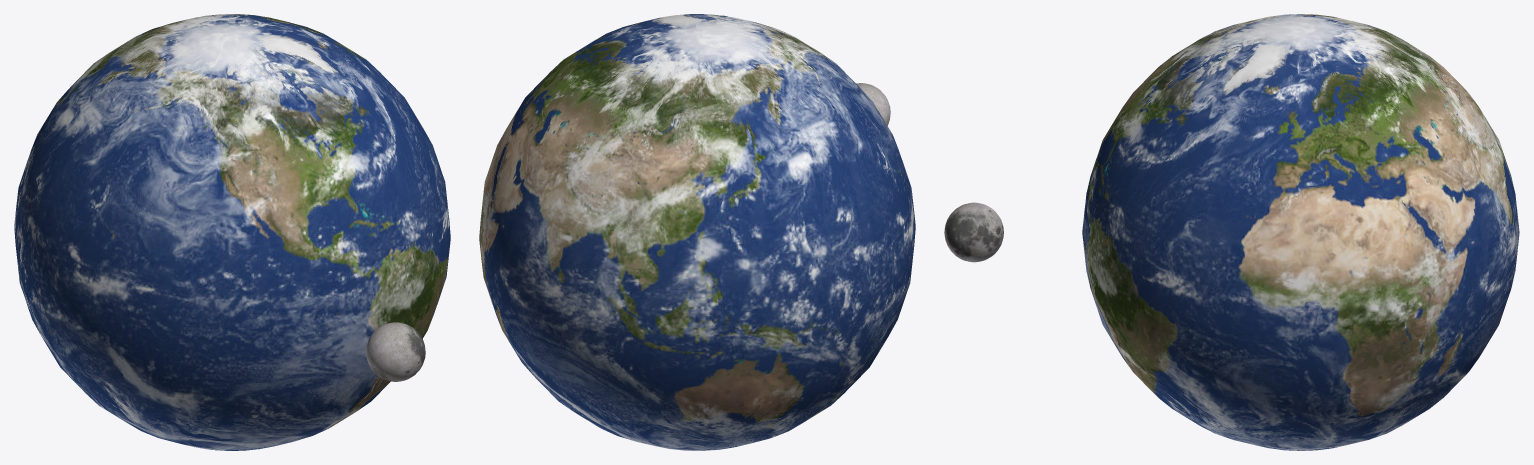
Rendered from terra con la luna.glb.
3 renders of one model, left to right at view 1: azimuth 30°, elevation 25°; view 2: azimuth 150°, elevation 25°; view 3: azimuth 270°, elevation 25°, orthographic.
Parts seen in each view (by area): view 1: SOLE, Sphere; view 2: SOLE, Sphere; view 3: SOLE, Sphere.
Boxes of the visible parts, x1,y1,x2,y2 form: SOLE: (14,14,450,450); Sphere: (366,322,425,381); SOLE: (479,14,915,450); Sphere: (856,83,890,125); SOLE: (1082,14,1519,450); Sphere: (944,202,1003,262).
Size of the model in its own units: 1.51 by 1.51 by 1.99.
2 materials, 2 textured.
